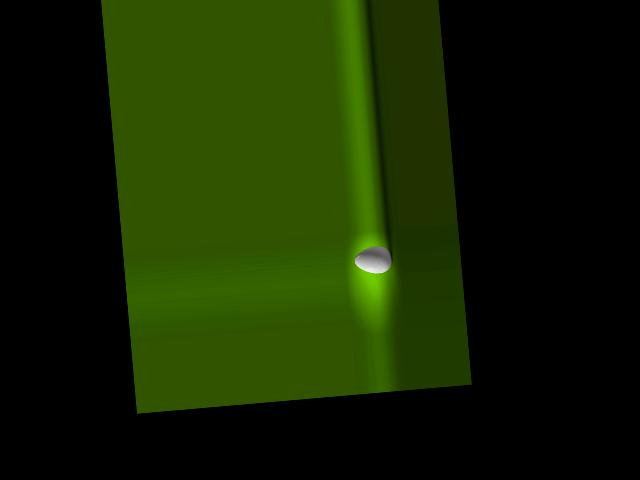egg: (353, 244, 393, 275)
